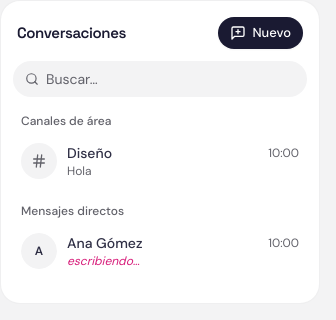
ConversationList - buscador › filtra por título de la conversación
Check: the text "Ana Gómez" is shown, box [67,234,142,252]
Check: the text "Diseño" is shown, box [67,144,112,162]
In the field with placeholder "Buscar…": [160, 79] box [13,61,307,97], type "ana"
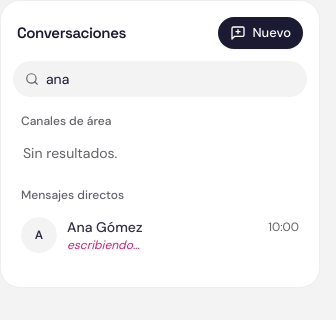
Check: the text "Ana Gómez" is shown, box [67,218,142,236]
Check: the button "Diseño" is gone
